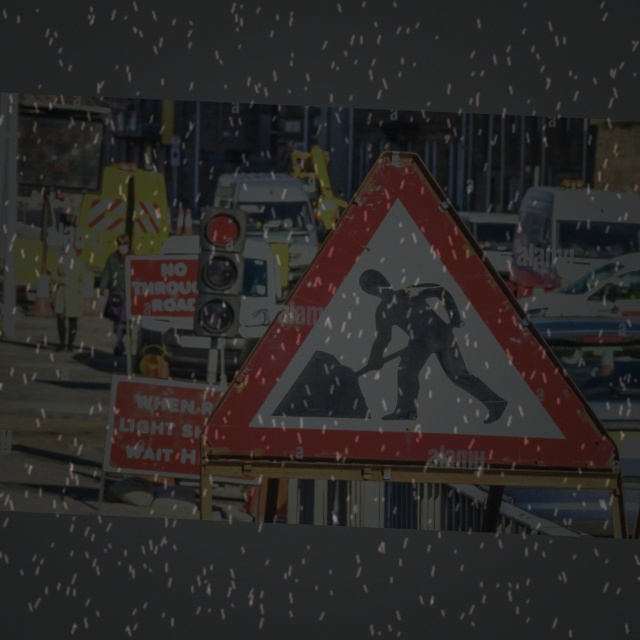Men_at_Work: (226, 156, 598, 477)
